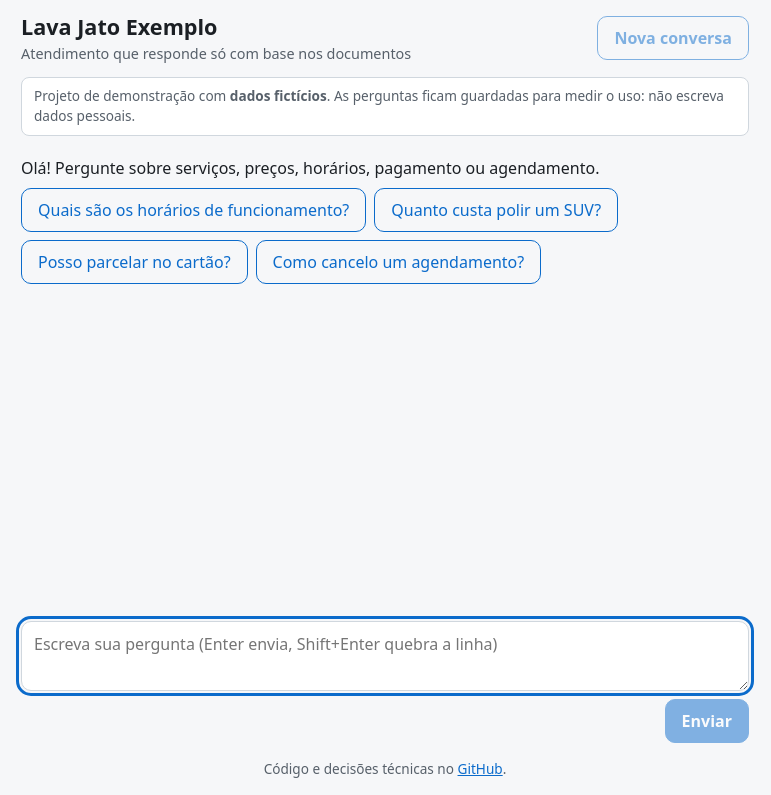
Test: conversa › as citações [n] ganham destaque
Type "SUV?" into the text box labelled "sua pergunta" at (385,656), box [21,621,749,691]
Then press Enter
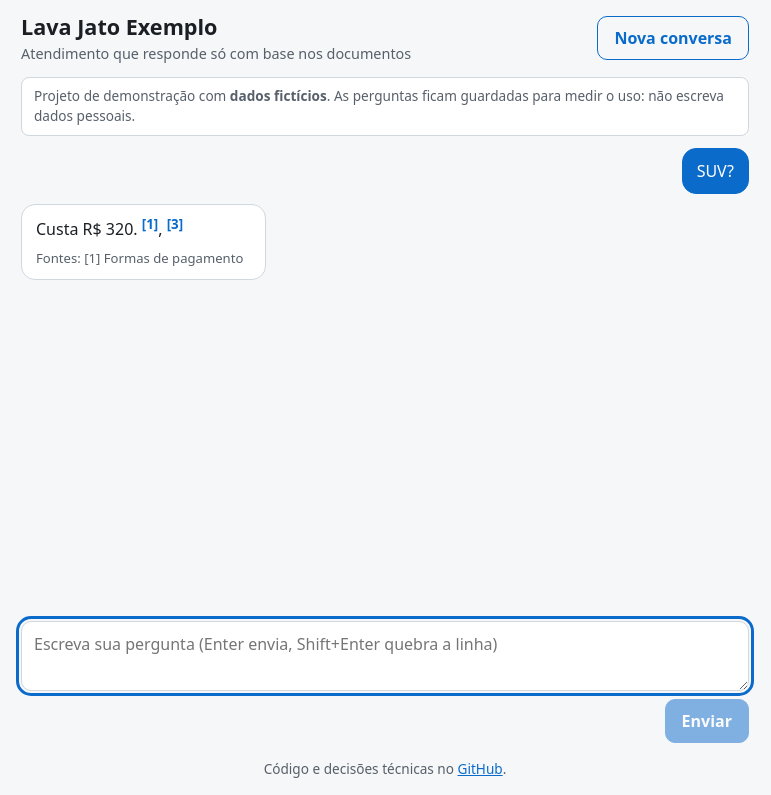
Now the text "Custa R$ 320. [1], [3]" is shown, box [36,215,183,240]
